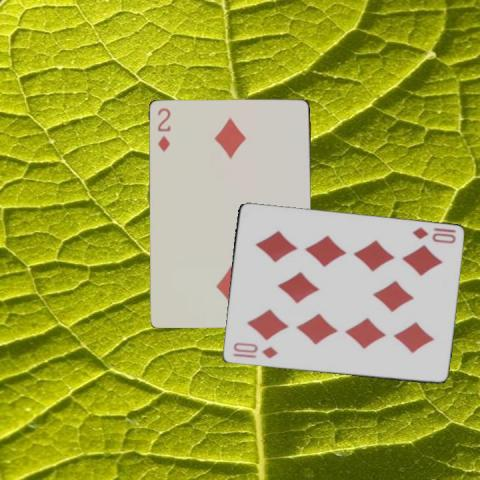10d: (230, 339, 279, 360), (409, 225, 457, 245)
2d: (154, 106, 172, 154)
